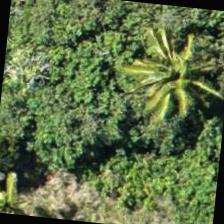Kelapa_Sawit: (135, 23, 223, 123), (0, 131, 57, 219)
